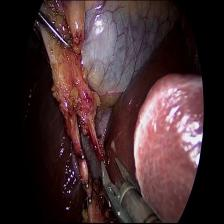Clipper: (99, 146, 142, 224)
Grasper: (38, 4, 76, 58)
